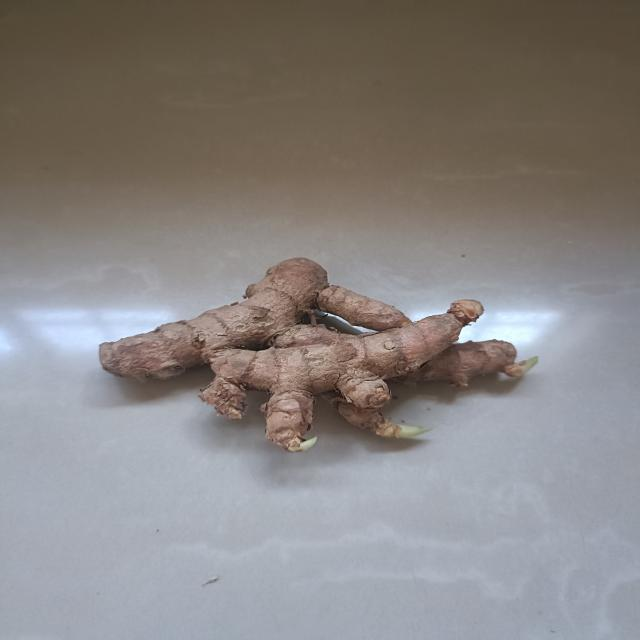ginger: (98, 255, 539, 454)
